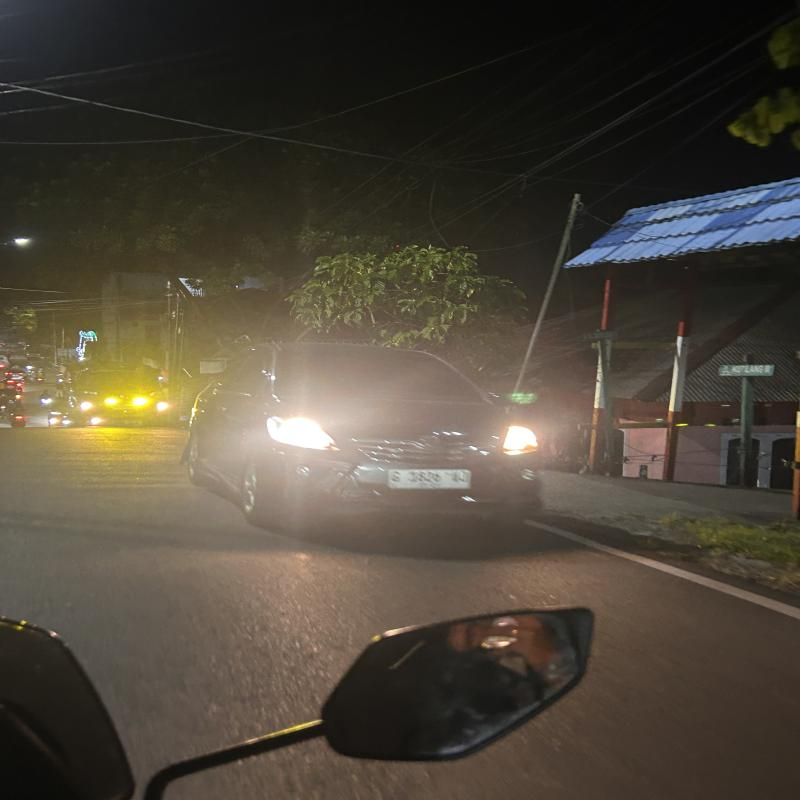license plate on a car: (382, 466, 466, 491)
